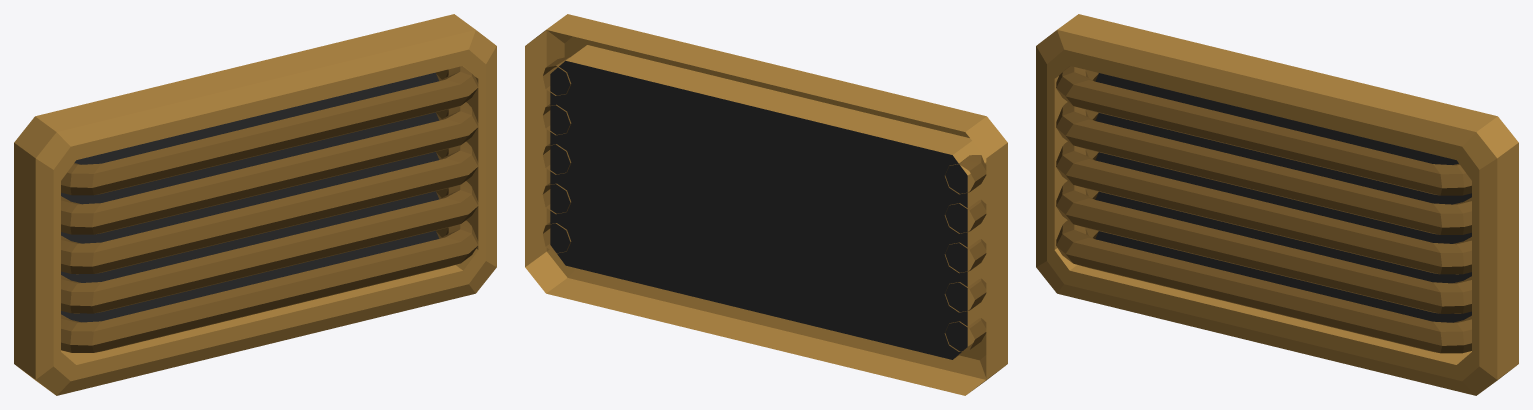
The model's file is Details_Vent_5.glb.
3 renders of one model, left to right at view 1: azimuth 30°, elevation 25°; view 2: azimuth 150°, elevation 25°; view 3: azimuth 330°, elevation 25°, orthographic.
Parts seen in each view (by area): view 1: Details_Vent_5; view 2: Details_Vent_5; view 3: Details_Vent_5.
Boxes of the visible parts, x1,y1,x2,y2 form: Details_Vent_5: (14,14,496,395); Details_Vent_5: (525,14,1007,395); Details_Vent_5: (1036,14,1518,395).
Bounding box in the file's own units: 0.2334 × 0.1276 × 0.0308.
